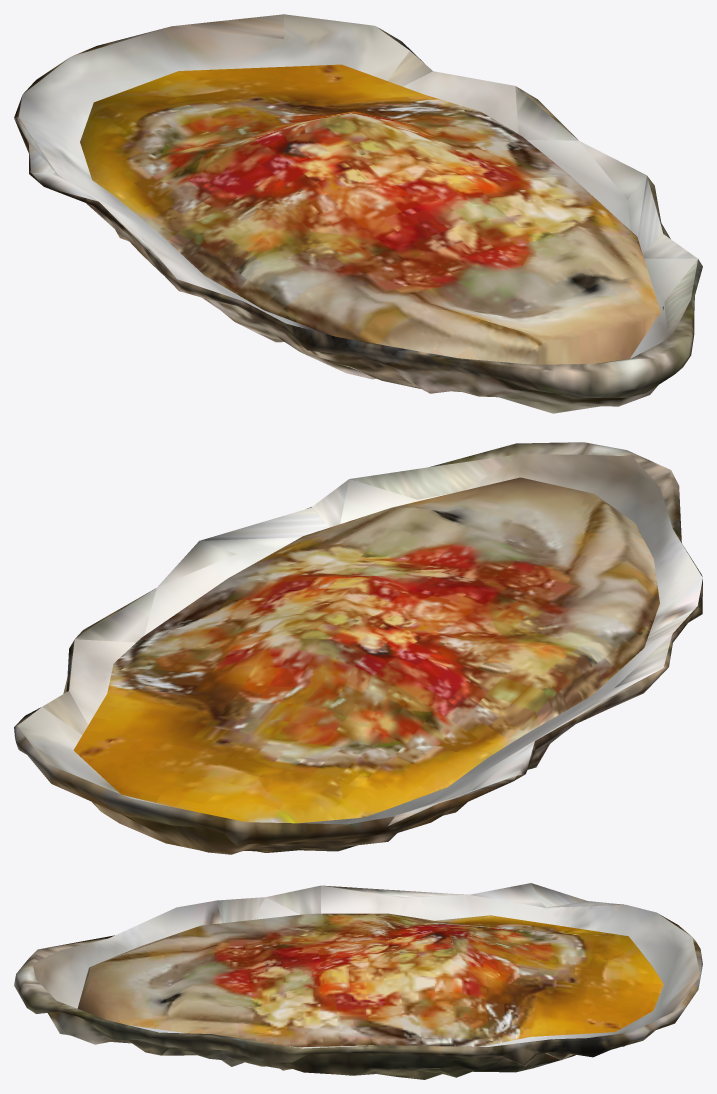
File: ref_scallop.glb
3 renders of one model, top to bottom at view 1: azimuth 30°, elevation 25°; view 2: azimuth 150°, elevation 25°; view 3: azimuth 270°, elevation 25°, orthographic. The views are drawn at different scales.
Parts seen in each view (by area): view 1: ref_scallop_part1, ref_scallop_part0; view 2: ref_scallop_part1, ref_scallop_part0; view 3: ref_scallop_part1, ref_scallop_part0.
Boxes of the visible parts, x1,y1,x2,y2 form: ref_scallop_part1: (80,64,660,364); ref_scallop_part0: (14,14,702,413); ref_scallop_part1: (73,477,659,823); ref_scallop_part0: (14,442,702,854); ref_scallop_part1: (77,913,663,1047); ref_scallop_part0: (14,883,702,1079).
Bounding box in the file's own units: 0.5677 × 0.177 × 1.
2 materials, 2 textured.
